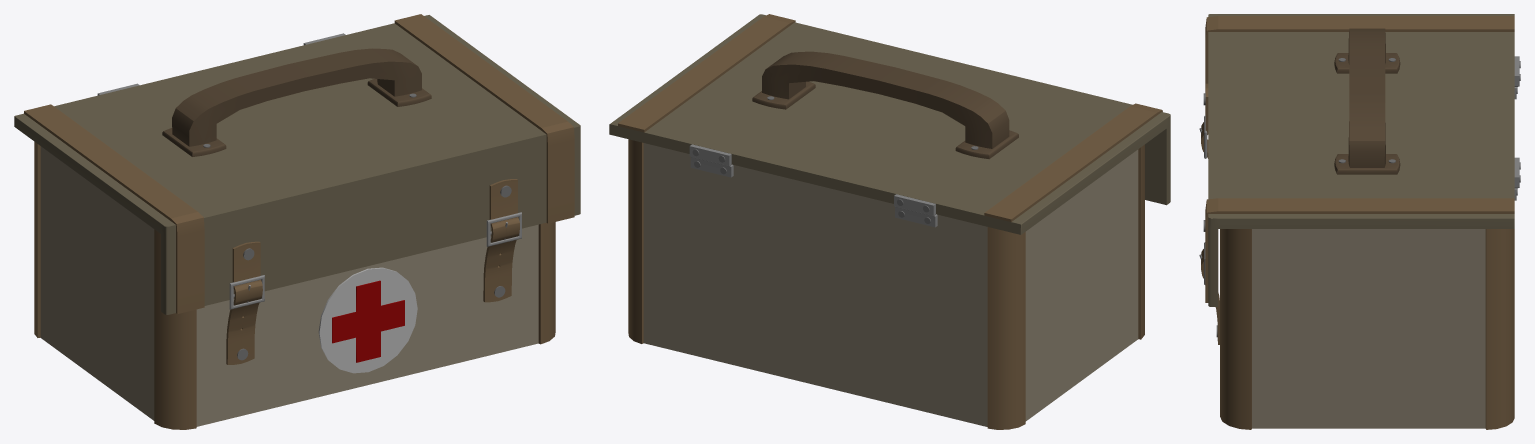
File: Botiquin FBX.fbx
The picture shows the model from 3 angles, left to right: view 1: azimuth 30°, elevation 25°; view 2: azimuth 150°, elevation 25°; view 3: azimuth 270°, elevation 25°; orthographic projection.
Visible parts, largest first — view 1: pCylinder20; view 2: pCylinder20; view 3: pCylinder20.
Boxes of the visible parts, box(x1,y1,x2,y2) form: pCylinder20: box(14, 14, 580, 429); pCylinder20: box(609, 14, 1170, 429); pCylinder20: box(1199, 14, 1520, 429).
Size of the model in its own units: 2.41 by 1.45 by 1.6.
